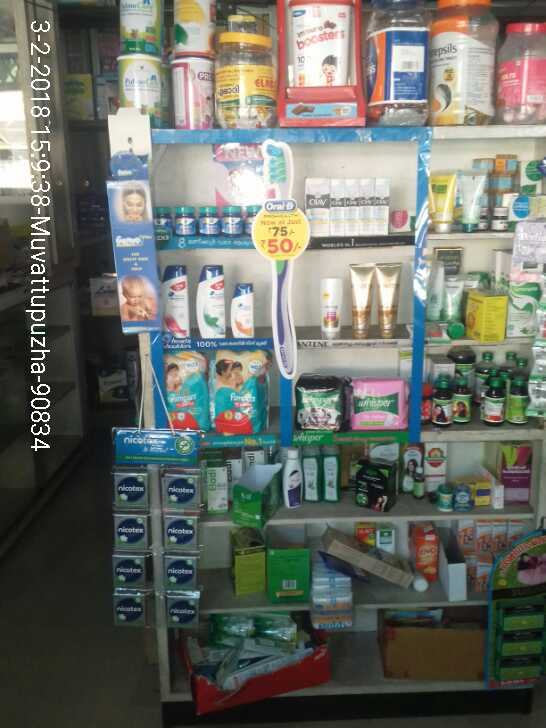vicks: (148, 204, 266, 244)
